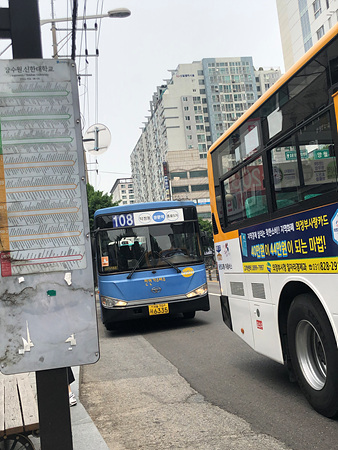bnum: (112, 212, 133, 224)
